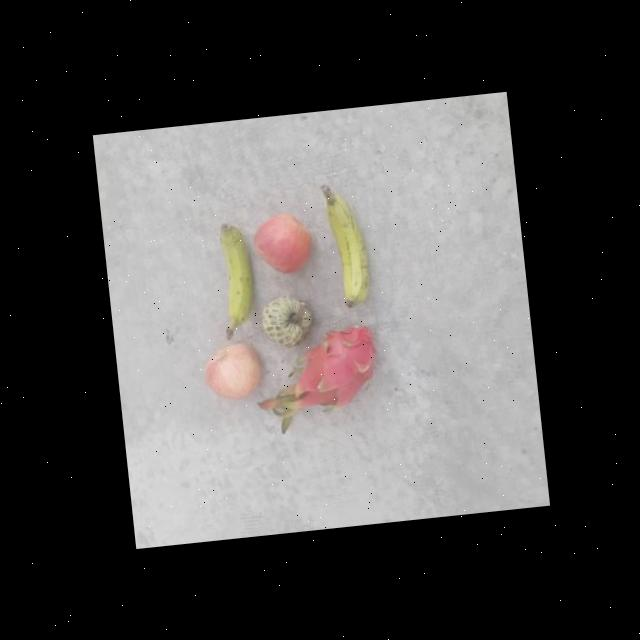Sakya fruit: (255, 290, 318, 354)
apple: (246, 207, 319, 280), (199, 336, 267, 406)
banana: (315, 188, 378, 310), (208, 220, 260, 336)
pitaya: (291, 322, 382, 413)
